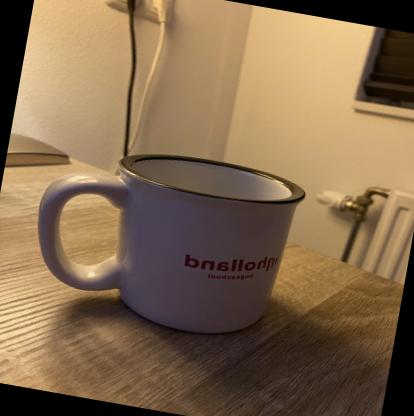Cup: (17, 127, 312, 352)
